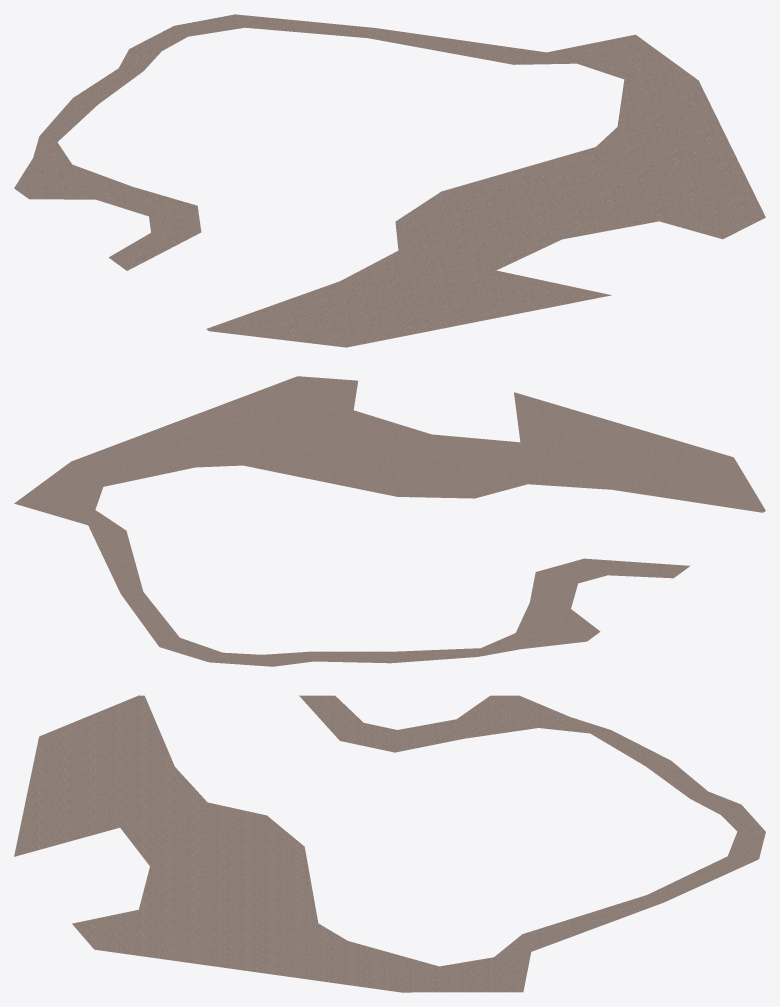
Rendered from kd_stage_1363c5_10_0_bounded.glb.
3 views of the same model, one above another, from view 1: azimuth 30°, elevation 25°; view 2: azimuth 150°, elevation 25°; view 3: azimuth 270°, elevation 25° (orthographic). The views are drawn at different scales.
Visible parts, largest first — view 1: kd_stage_1363c5_10_0_bounded; view 2: kd_stage_1363c5_10_0_bounded; view 3: kd_stage_1363c5_10_0_bounded.
Part boxes in pixels (x1,y1,x2,y2): kd_stage_1363c5_10_0_bounded: [14, 14, 765, 347]; kd_stage_1363c5_10_0_bounded: [14, 376, 765, 666]; kd_stage_1363c5_10_0_bounded: [14, 695, 765, 992].
Bounding box in the file's own units: 60.75 × 1.05e-05 × 65.
1 material, 1 textured.
